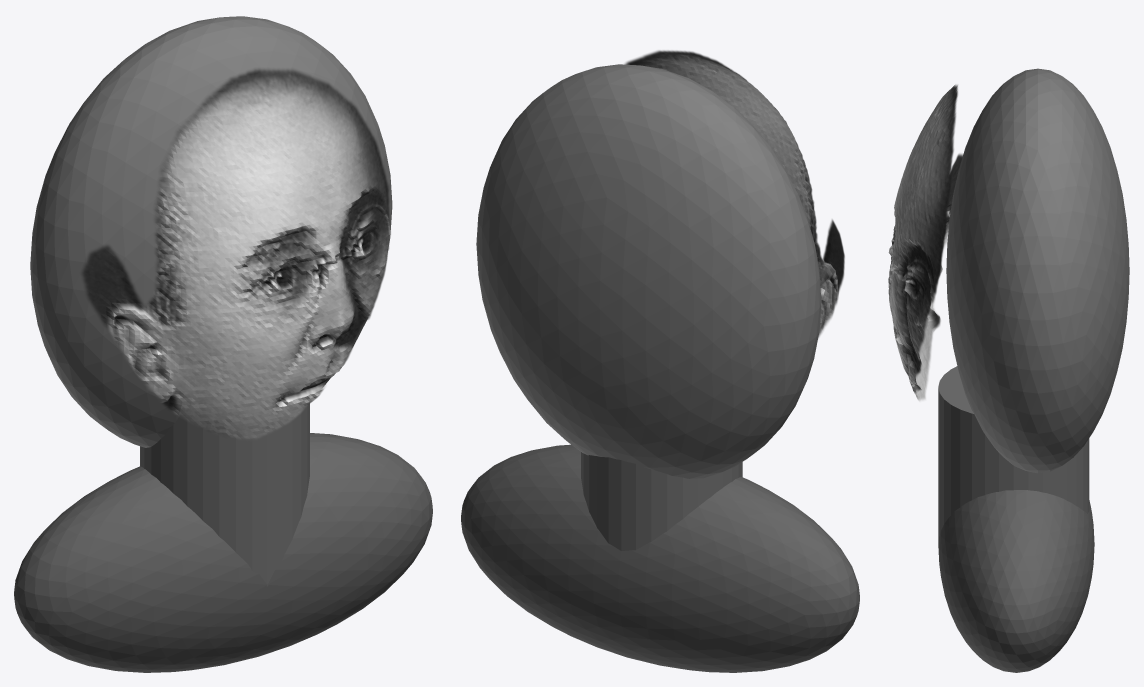
File: Lavrenty_Beria_Face_3D.glb
3 renders of one model, left to right at view 1: azimuth 30°, elevation 25°; view 2: azimuth 150°, elevation 25°; view 3: azimuth 270°, elevation 25°, orthographic. The views are drawn at different scales.
Visible parts, largest first — view 1: TexturedFaceRelief, Shoulders, HeadVolume, Neck; view 2: HeadVolume, Shoulders, Neck, TexturedFaceRelief; view 3: HeadVolume, Shoulders, TexturedFaceRelief, Neck.
Boxes of the visible parts, x1,y1,x2,y2 form: TexturedFaceRelief: (81,68,390,439); Shoulders: (14,433,432,672); HeadVolume: (30,16,392,447); Neck: (140,403,309,586); HeadVolume: (476,64,821,478); Shoulders: (461,444,859,672); Neck: (581,452,742,550); TexturedFaceRelief: (624,50,844,337); HeadVolume: (946,68,1129,473); Shoulders: (938,490,1094,672); TexturedFaceRelief: (888,84,962,401); Neck: (938,366,1089,542).
Size of the model in its own units: 1.56 by 2.27 by 0.8953.
Materials: 1 (1 with a texture image).
